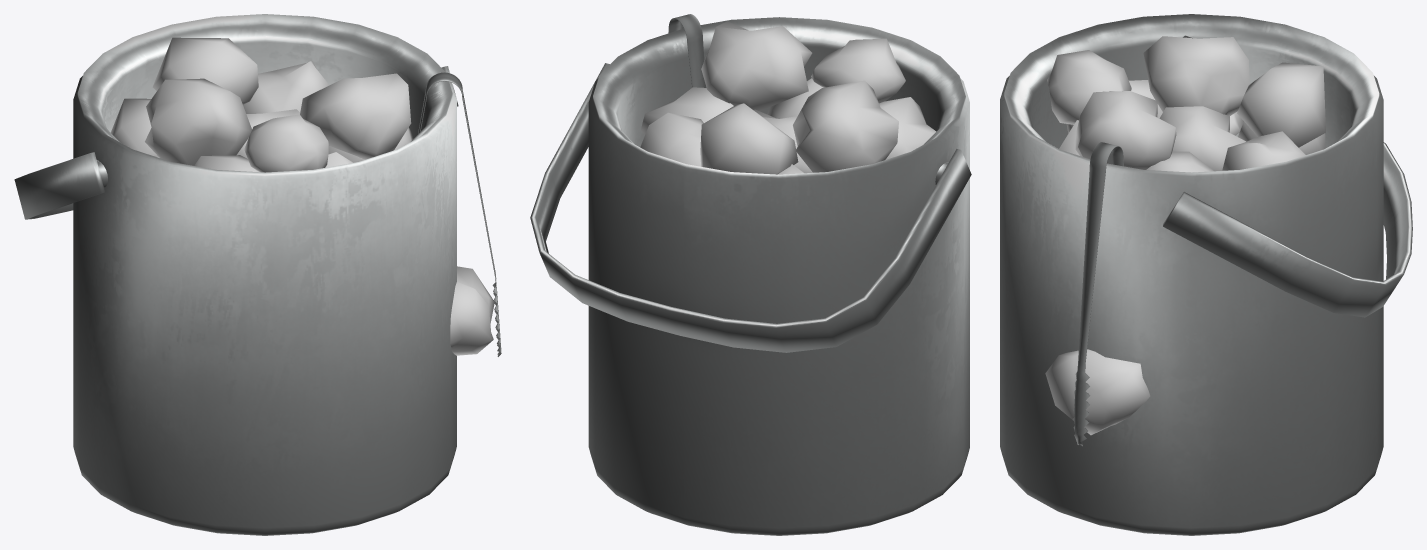
File: icepail.fbx
3 renders of one model, left to right at view 1: azimuth 30°, elevation 25°; view 2: azimuth 150°, elevation 25°; view 3: azimuth 270°, elevation 25°, orthographic.
Parts seen in each view (by area): view 1: icepail, ice, tongs; view 2: icepail, tongs; view 3: icepail, ice, tongs.
Boxes of the visible parts, x1,y1,x2,y2 form: icepail: (14, 14, 458, 535); ice: (450, 266, 494, 355); tongs: (418, 72, 501, 356); icepail: (530, 17, 971, 535); tongs: (668, 14, 706, 87); icepail: (1000, 14, 1412, 535); ice: (1045, 349, 1150, 435); tongs: (1073, 142, 1123, 446).
Bounding box in the file's own units: 0.1672 × 0.1708 × 0.1633.
